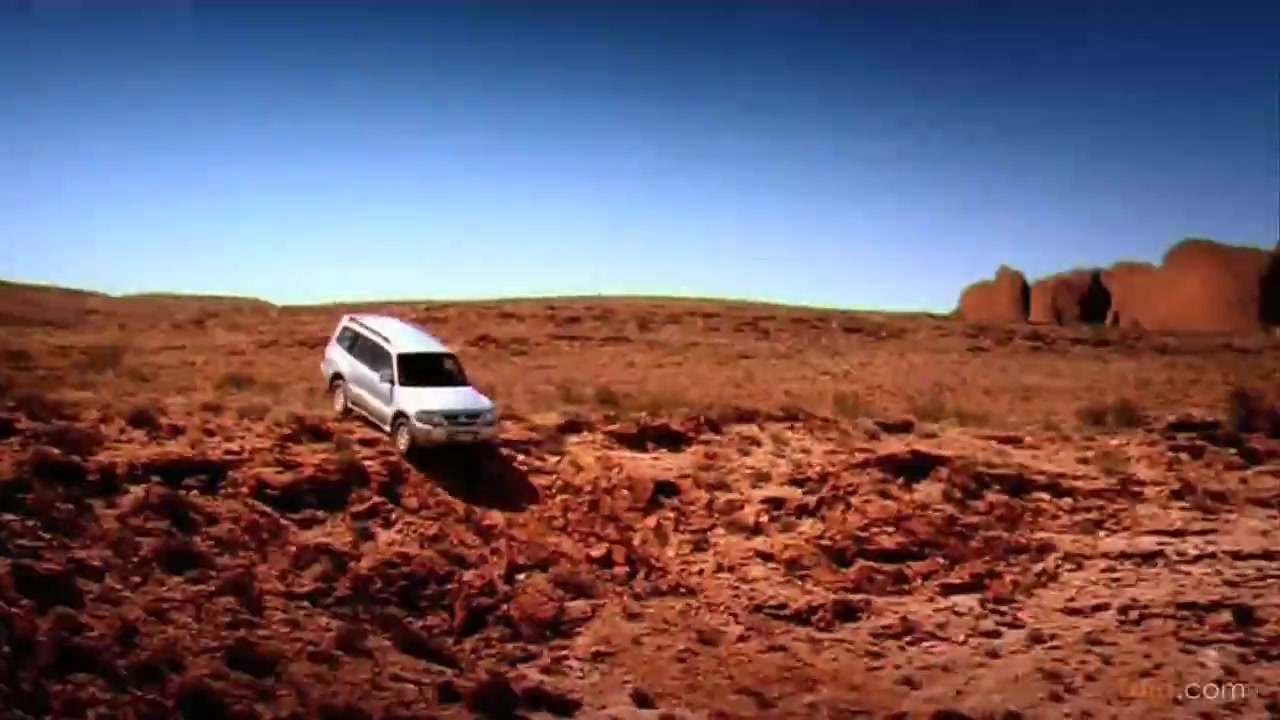car: (324, 312, 501, 457)
